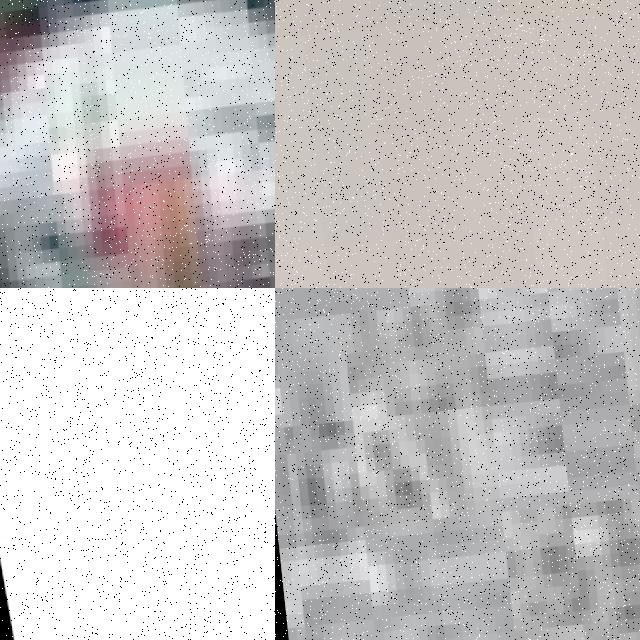0: (0, 0, 275, 288)
drone: (0, 288, 275, 640)
